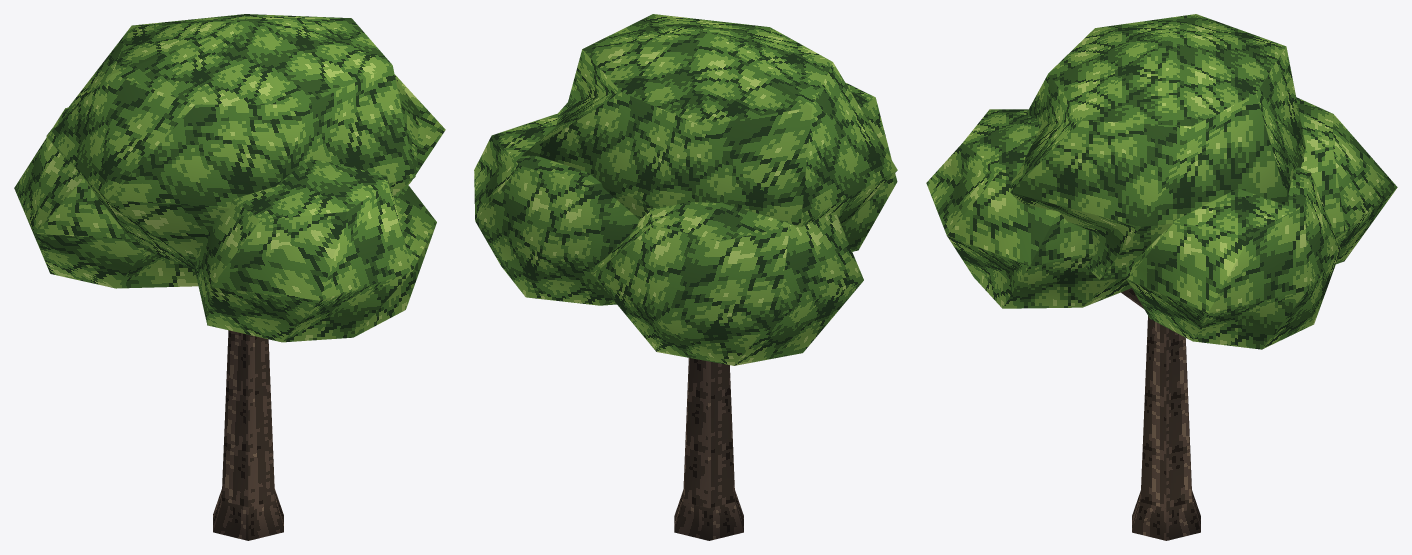
The model's file is mnat.oak.glb.
3 renders of one model, left to right at view 1: azimuth 30°, elevation 25°; view 2: azimuth 150°, elevation 25°; view 3: azimuth 270°, elevation 25°, orthographic. The views are drawn at different scales.
Visible parts, largest first — view 1: kit_crown, kit_trunk; view 2: kit_crown, kit_trunk; view 3: kit_crown, kit_trunk.
Boxes of the visible parts, left/top/right/bottom form: kit_crown: left=14, top=14, right=445, bottom=342; kit_trunk: left=213, top=330, right=283, bottom=540; kit_crown: left=474, top=14, right=897, bottom=365; kit_trunk: left=674, top=358, right=743, bottom=540; kit_crown: left=926, top=14, right=1397, bottom=349; kit_trunk: left=1121, top=288, right=1200, bottom=540.
Bounding box in the file's own units: 5.85 × 6.93 × 6.08.
2 materials, 2 textured.
